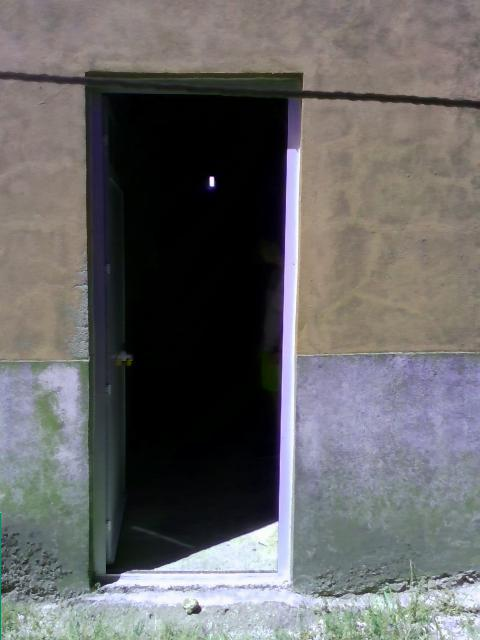open_door: (84, 70, 302, 590)
